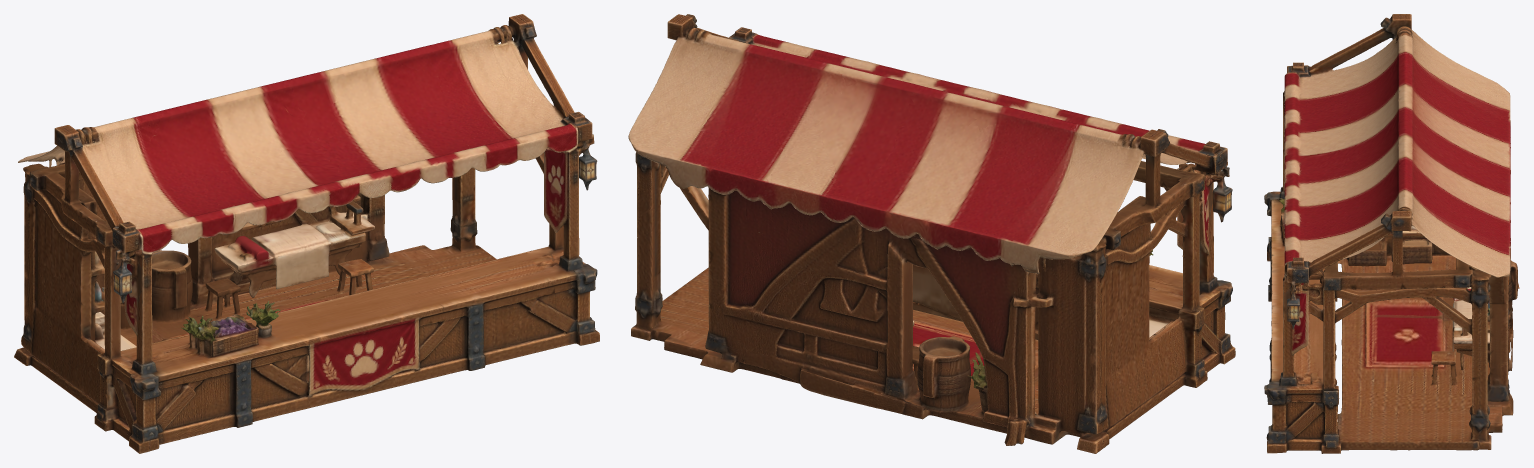
Rendered from Meshy_AI_Pawprint_Market_Stall_1007132241_texture.fbx.
3 views of the same model, side by side, from view 1: azimuth 30°, elevation 25°; view 2: azimuth 150°, elevation 25°; view 3: azimuth 270°, elevation 25° (orthographic). The views are drawn at different scales.
Parts seen in each view (by area): view 1: Mesh_0; view 2: Mesh_0; view 3: Mesh_0.
Part boxes in pixels (left/top/right/bottom): Mesh_0: left=14, top=14, right=599, bottom=453; Mesh_0: left=628, top=14, right=1235, bottom=453; Mesh_0: left=1264, top=14, right=1519, bottom=453.
Size of the model in its own units: 190 by 102 by 98.75.
1 material, 1 textured.
